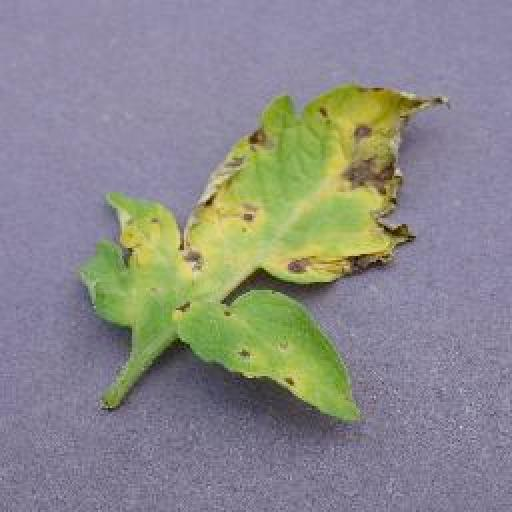disease_tomato: (84, 82, 452, 426)
